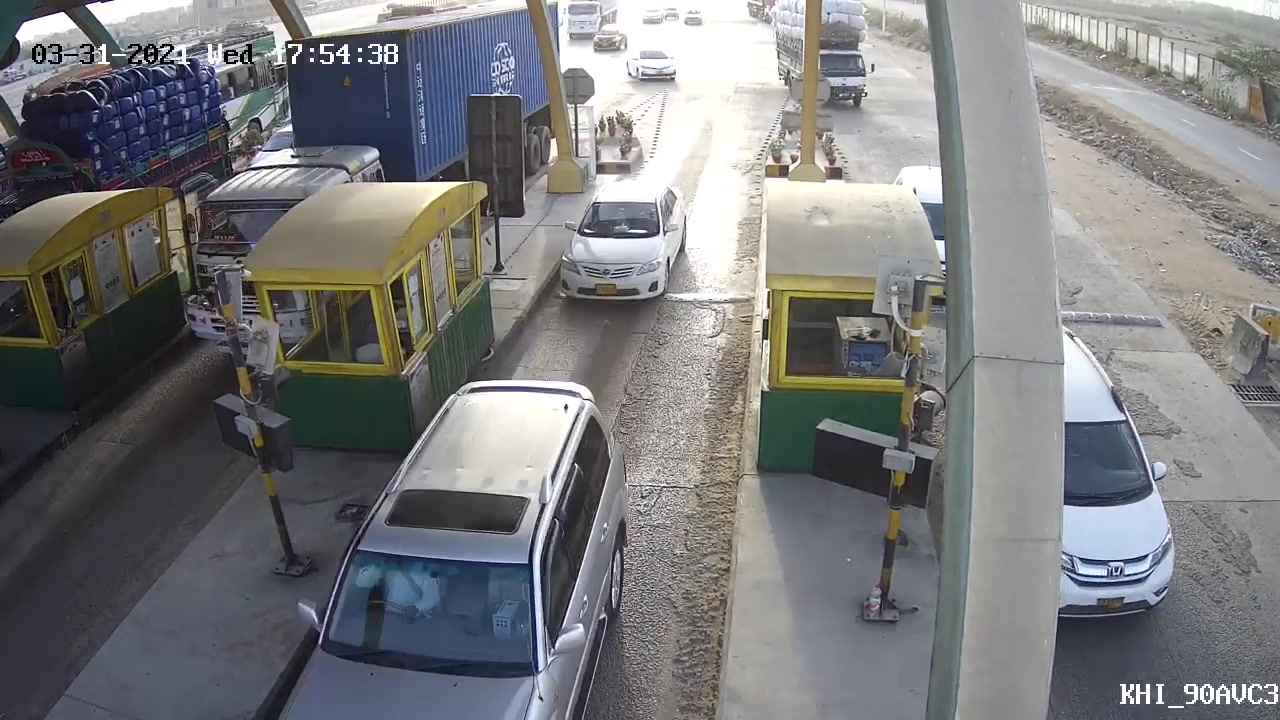F1: (555, 176, 692, 305)
